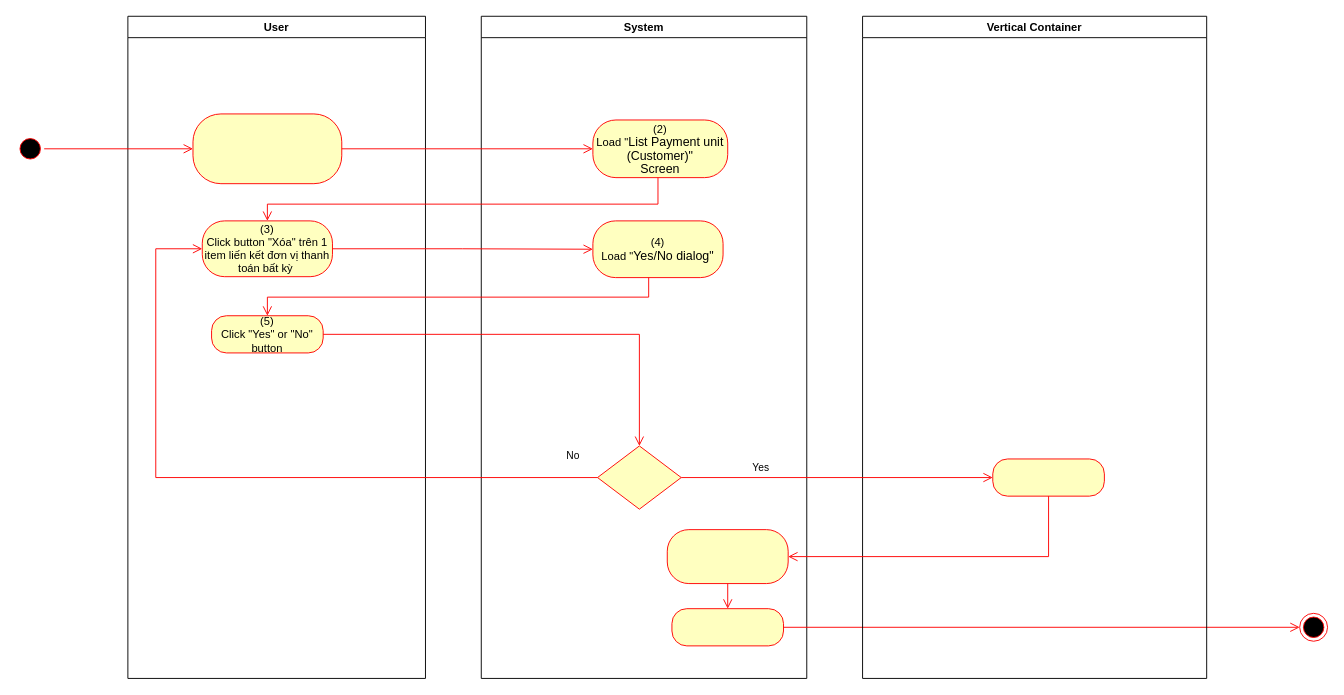
Some shapes in this 1344 by 695 pixel diagram are drawn without their labels. Each missing label, with the centre of its shape:
(1) On "left menu" click " CRUD payment unit ": [267,148]
(5.1) Delete connect: [1048,477]
(6) Delete Payment Unit to DB: [727,556]
(7) Update UI: [727,627]
